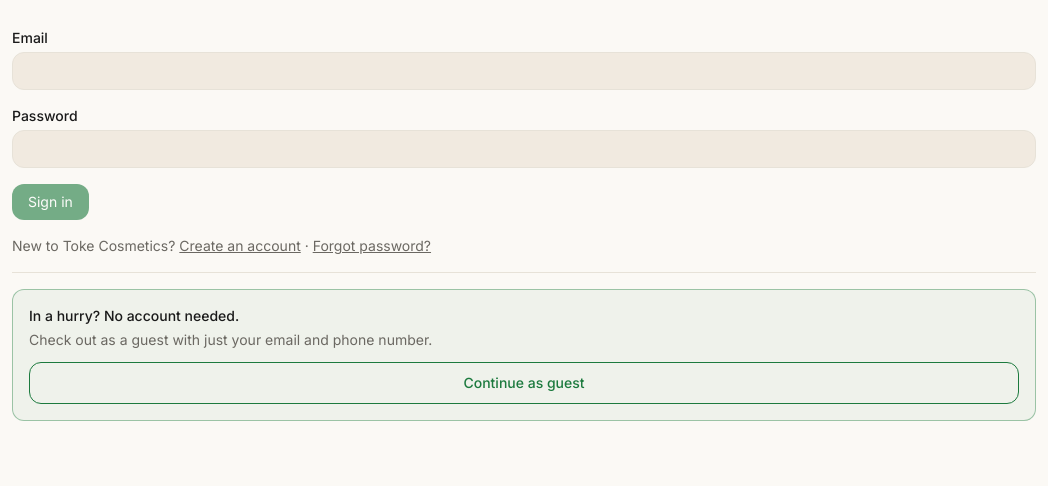
SignInStep › signs in an existing shopper directly and completes the step
In the field labelled "Email": (524, 71) [12,52,1036,90], type "jane@example.com"
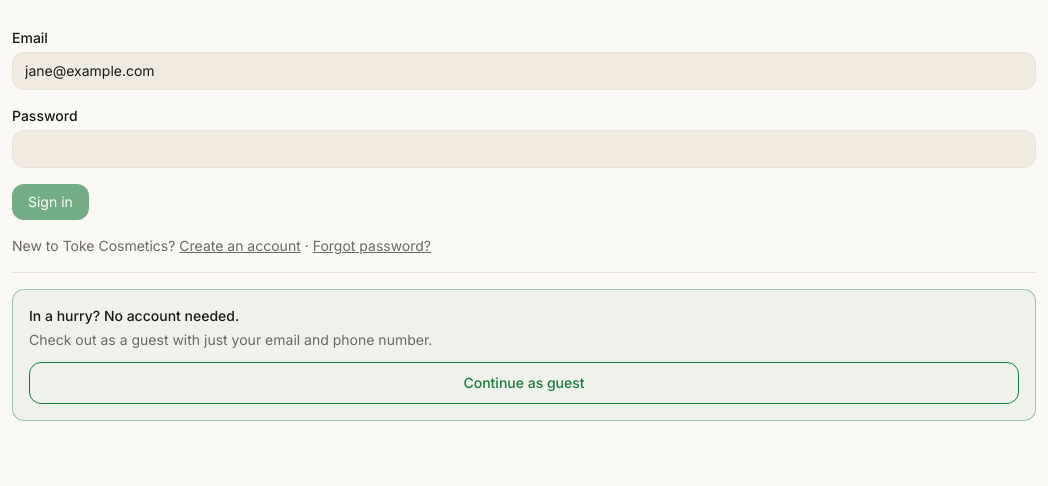
In the password field labelled "Password": (524, 149) [12,130,1036,168], type "correct-password"
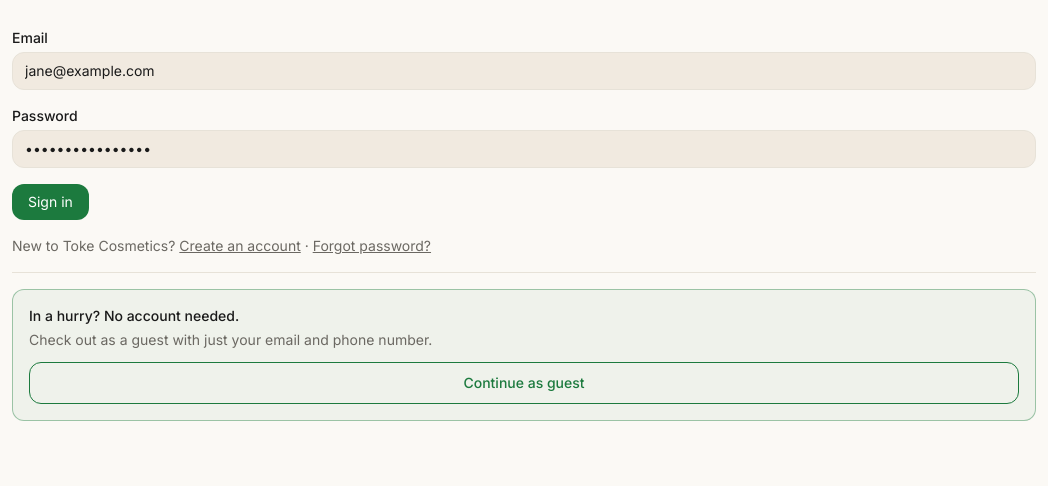
Click the button "Sign in": (50, 202) [12,184,89,220]
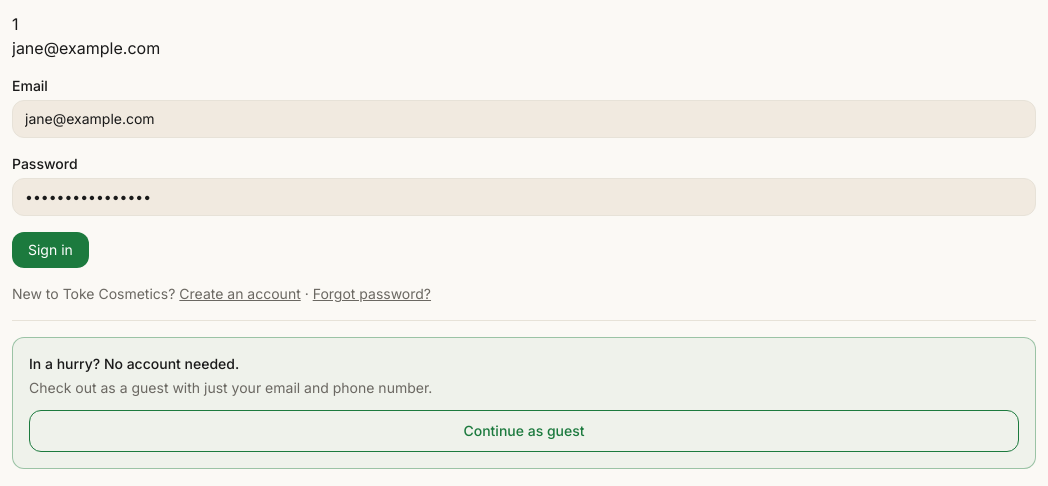
Now the text with test id "completed" reads "1", box [12,14,18,34]
Now the text with test id "userEmail" reads "jane@example.com", box [12,38,160,58]
